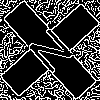N: (25, 25, 83, 84)
